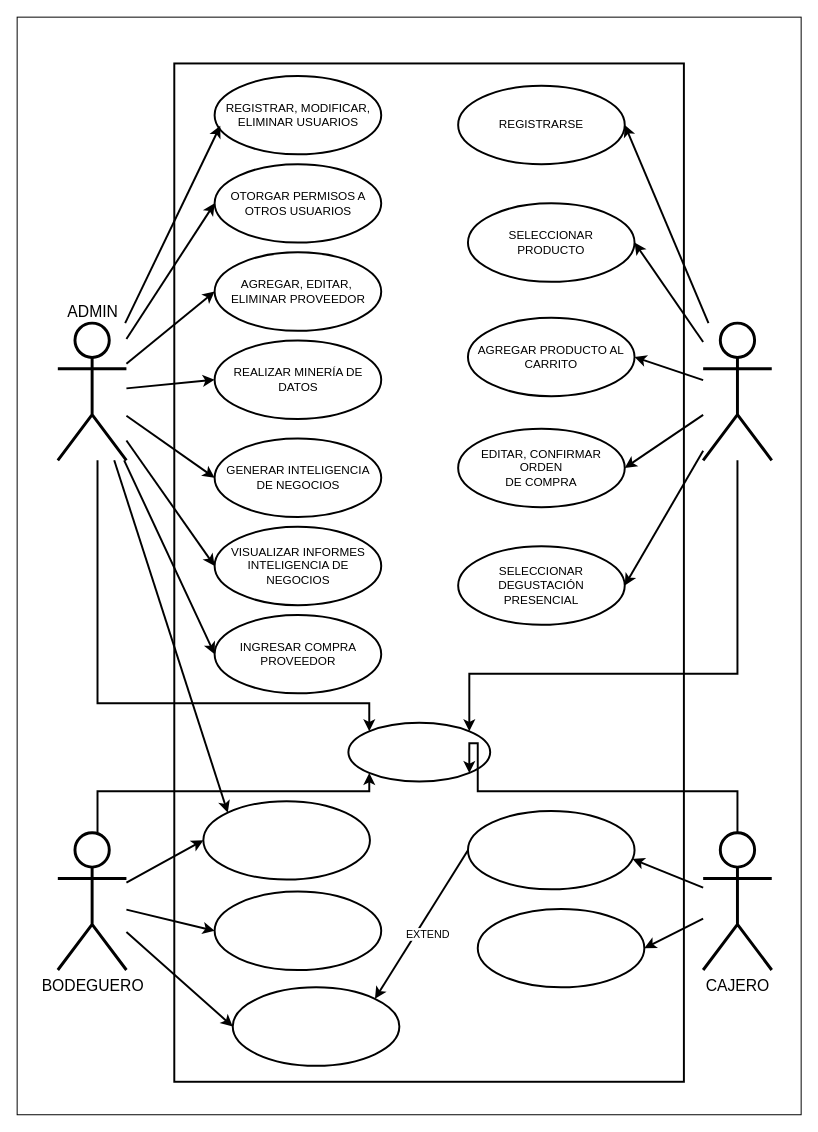
This 818x1132 diagram has some shape labels left out. The centre of each missing label's shape, as x and y in pixels:
"ADMINISTRAR STOCK INVENTARIO" goes at (286,840).
"AGREGAR, EDITAR, ELIMINAR PRODUCTO" goes at (297,930).
"CLIENTE" goes at (737,391).
"INGRESAR ENTREGA DE PEDIDO" goes at (560,947).
"INGRESAR VENTA CLIENTE (WEB, PRESENCIAL)" goes at (550,849).
"INICIAR SESION" goes at (419,751).
"RECIBIR ORDEN DE VENTA" goes at (315,1026).
